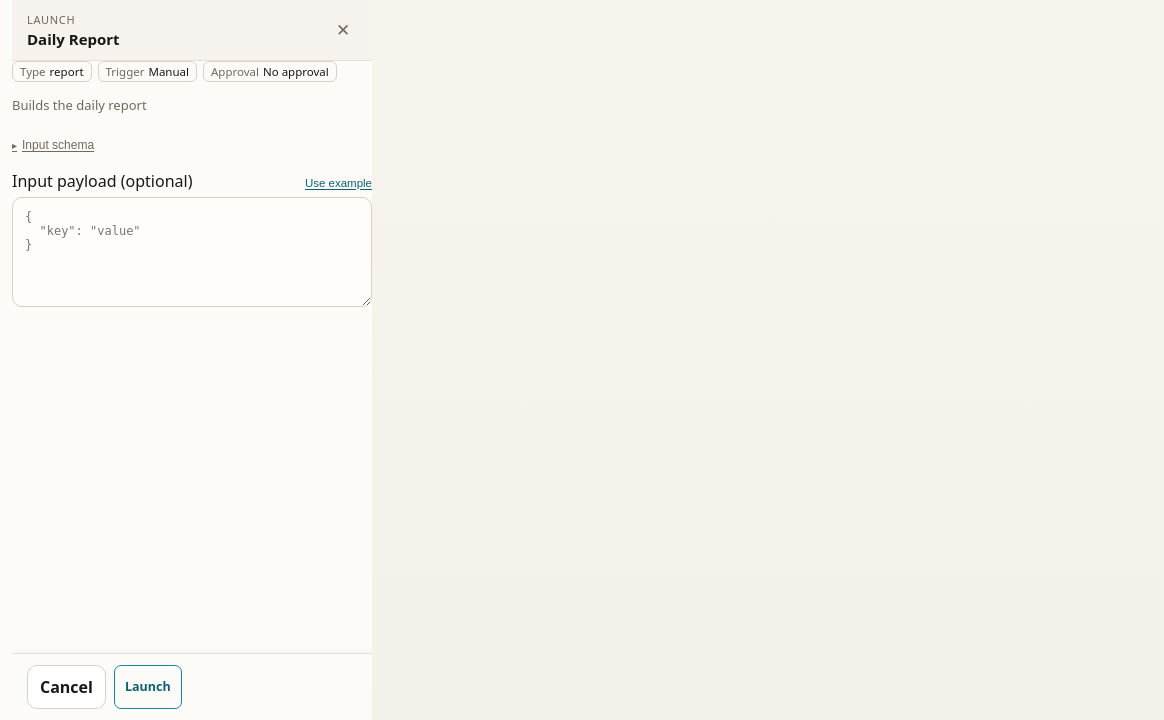
Test: Use example payload button › fills the textarea with the example payload on click
Click the button "Use example".
click(338, 182)  # box [305,176,372,188]
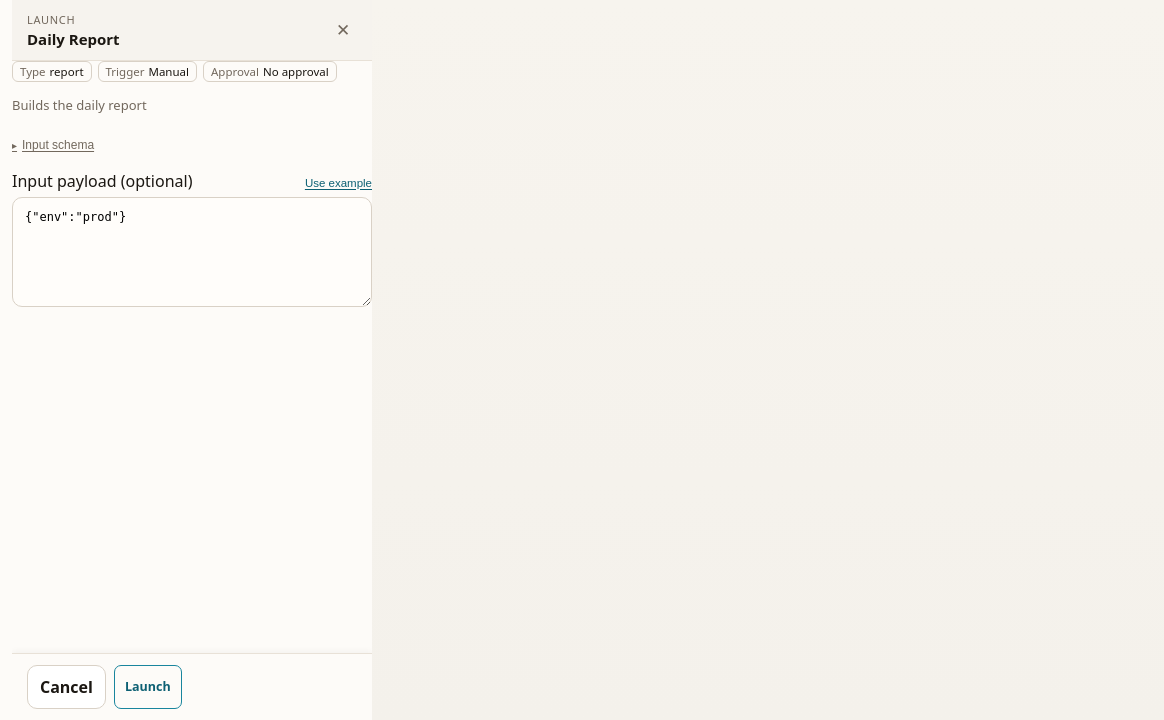
Expected: the text box labelled "Input payload (optional)" holds "{\"env\":\"prod\"}", [12,196,372,306]
